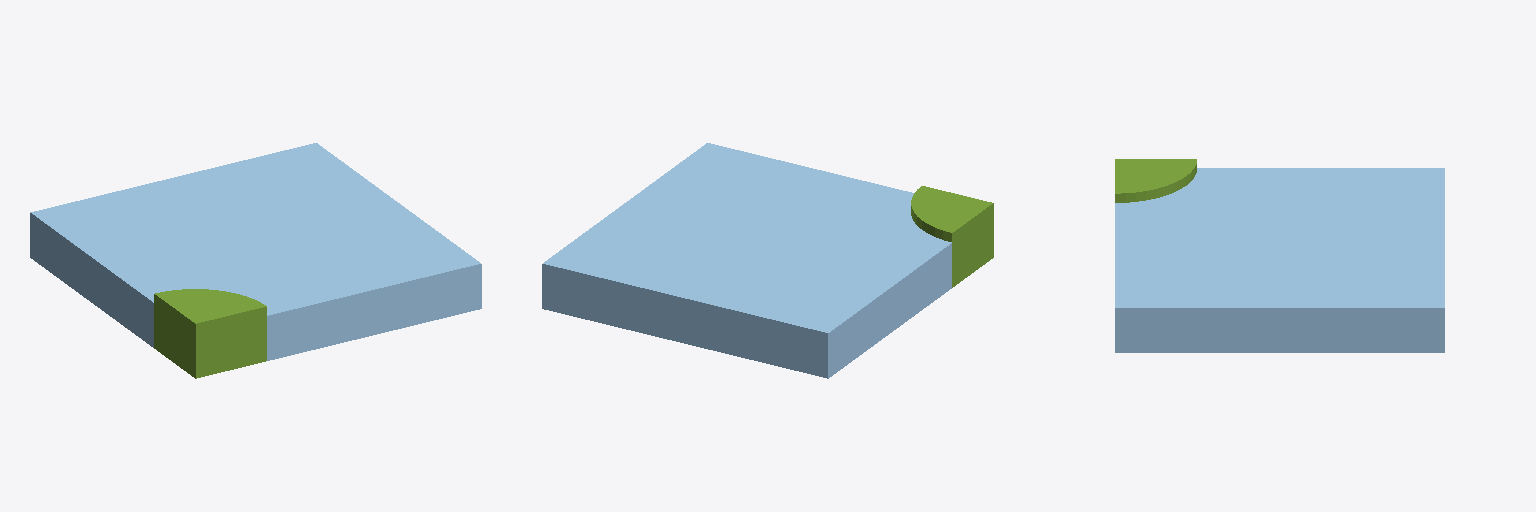
The picture shows the model from 3 angles: view 1: azimuth 30°, elevation 25°; view 2: azimuth 150°, elevation 25°; view 3: azimuth 270°, elevation 25°; orthographic projection.
Visible parts, largest first — view 1: roadTile_159.001; view 2: roadTile_159.001; view 3: roadTile_159.001.
Boxes of the visible parts, box(x1,y1,x2,y2) form: roadTile_159.001: box(30, 143, 481, 378); roadTile_159.001: box(542, 143, 993, 378); roadTile_159.001: box(1115, 159, 1444, 352).
Size of the model in its own units: 3 by 0.55 by 3.